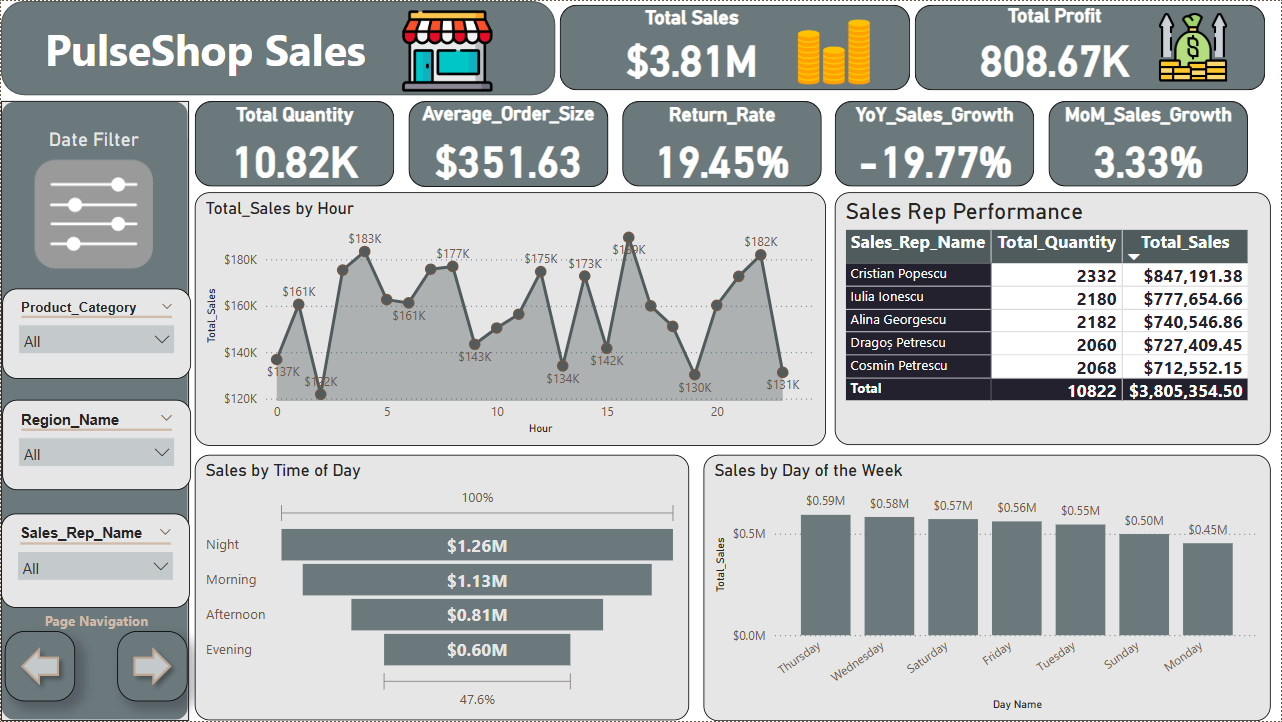

This screenshot's page, from the dashboard's own definition file:
{"tool":"powerbi","page":{"name":"Time & Rep Performance","canvas":[1280,720],"ordinal":1},"visuals":[{"type":"shape","box":[0,0,554.3,94.3],"z":0,"group":"g8"},{"type":"shape","box":[559.1,4.3,350,85.8],"z":0,"group":"g5"},{"type":"shape","box":[914.3,4.3,350,85.8],"z":0,"group":"g3"},{"type":"shape","box":[0,100,188,620],"z":0},{"type":"shape","box":[194.3,100,200,85.8],"z":0,"group":"g4"},{"type":"shape","box":[407.5,100,199.9,86],"z":0,"group":"g7"},{"type":"shape","box":[620.7,100,200,85.8],"z":0,"group":"g6"},{"type":"shape","box":[833.9,100,200,85.8],"z":0,"group":"g1"},{"type":"shape","box":[1047.1,100,200,85.8],"z":0,"group":"g2"},{"type":"card","title":"Total Profit","fields":{"Values":["Sum(Fact_Orders.Profit)"]},"box":[914.1,3.9,280,82.9],"z":1000,"group":"g3"},{"type":"card","title":"Total Sales","fields":{"Values":["Dax_meas.Total_Sales"]},"box":[559,5.3,264.3,80],"z":1000,"group":"g5"},{"type":"textbox","box":[38.6,14.3,381.4,88.6],"z":1000,"group":"g8"},{"type":"group","id":"g1","title":"Group 1","box":[833.9,100,200,90],"z":1000},{"type":"card","title":"Average_Order_Size","fields":{"Values":["Dax_meas.Average_Order_Size"]},"box":[407.6,101.2,199.9,88.8],"z":1000,"group":"g7"},{"type":"card","title":"Total Quantity","fields":{"Values":["Dax_meas.Total_Quantity"]},"box":[194.3,102.8,200,87.2],"z":1000,"group":"g4"},{"type":"card","title":"Return_Rate","fields":{"Values":["Dax_meas.Return_Rate"]},"box":[620.7,102.8,200,87.2],"z":1000,"group":"g6"},{"type":"card","title":"YoY_Sales_Growth","fields":{"Values":["Dax_meas.YoY_Sales_Growth"]},"box":[833.9,102.8,200,87.2],"z":1000,"group":"g1"},{"type":"card","title":"MoM_Sales_Growth","fields":{"Values":["Dax_meas.MoM_Sales_Growth"]},"box":[1047.1,102.8,200,87.2],"z":1000,"group":"g2"},{"type":"image","box":[338.6,0,215.7,100],"z":2000,"group":"g8"},{"type":"group","id":"g2","title":"Group 1","box":[1047.1,100,200,90],"z":2000},{"type":"group","id":"g3","title":"Group 1","box":[914.1,3.9,350.2,86.3],"z":3000},{"type":"group","id":"g4","title":"Group 1","box":[194.3,100,200,90],"z":4000},{"type":"group","id":"g5","title":"Group 1","box":[559,4.3,350.1,85.8],"z":5000},{"type":"group","id":"g6","title":"Group 1","box":[620.7,100,200,90],"z":6000},{"type":"group","id":"g7","title":"Group 1","box":[407.5,100,200,90],"z":7000},{"type":"lineChart","fields":{"Y":["Dax_meas.Total_Sales"],"Category":["Dim_Date_Time.Hour"]},"box":[193.8,191.2,631.2,253.8],"z":8000},{"type":"slicer","fields":{"Values":["Dim_Products.Product_Category"]},"box":[1.2,287.5,184.1,90.2],"z":9000},{"type":"slicer","fields":{"Values":["Dim_Regions.Region_Name"]},"box":[1.2,398.2,184.1,90.2],"z":10000},{"type":"slicer","fields":{"Values":["Dim_Sales_Reps.Sales_Rep_Name"]},"box":[0,512.5,185.3,95],"z":11000},{"type":"shape","box":[115.7,630,70,70],"z":12000},{"type":"shape","box":[4.3,630,70,70],"z":13000},{"type":"image","box":[762.9,14.3,141.4,74.3],"z":14000},{"type":"image","box":[1120,5.7,144.3,80],"z":15000},{"type":"image","title":"Date Filter","box":[0,127.1,185.7,150],"z":16000},{"type":"group","id":"g8","title":"Group 3","box":[0,0,554.3,102.9],"z":17000},{"type":"clusteredColumnChart","title":"Sales by Day of the Week","fields":{"Category":["Dim_Date.Day Name"],"Y":["Dax_meas.Total_Sales"]},"box":[702.5,453.8,567.5,266.2],"z":19000},{"type":"funnel","title":"Sales by Time of Day","fields":{"Category":["Dim_Date_Time.Time of Day"],"Y":["Dax_meas.Total_Sales"]},"box":[194.3,454.3,494.3,265.7],"z":20000},{"type":"pivotTable","title":"Sales Rep Performance","fields":{"Rows":["Dim_Sales_Reps.Sales_Rep_Name"],"Values":["Dax_meas.Total_Quantity","Dax_meas.Total_Sales"]},"box":[834.3,191.4,435.7,252.9],"z":21000},{"type":"textbox","box":[38.8,606.2,128.8,27.5],"z":22000}]}

Visuals, with their boxes in screenshot pixels (x1, y1, x2, y2), scaled from the page's 1280x720 canvas onto the 1282x722 screenshot:
shape: crop(0, 0, 555, 95)
shape: crop(560, 4, 911, 90)
shape: crop(916, 4, 1266, 90)
shape: crop(0, 100, 188, 721)
shape: crop(195, 100, 395, 186)
shape: crop(408, 100, 608, 187)
shape: crop(622, 100, 822, 186)
shape: crop(835, 100, 1036, 186)
shape: crop(1049, 100, 1249, 186)
"Total Profit" card: crop(916, 4, 1196, 87)
"Total Sales" card: crop(560, 5, 825, 86)
textbox: crop(39, 14, 421, 103)
"Group 1" group: crop(835, 100, 1036, 191)
"Average_Order_Size" card: crop(408, 101, 608, 191)
"Total Quantity" card: crop(195, 103, 395, 191)
"Return_Rate" card: crop(622, 103, 822, 191)
"YoY_Sales_Growth" card: crop(835, 103, 1036, 191)
"MoM_Sales_Growth" card: crop(1049, 103, 1249, 191)
image: crop(339, 0, 555, 100)
"Group 1" group: crop(1049, 100, 1249, 191)
"Group 1" group: crop(916, 4, 1266, 90)
"Group 1" group: crop(195, 100, 395, 191)
"Group 1" group: crop(560, 4, 911, 90)
"Group 1" group: crop(622, 100, 822, 191)
"Group 1" group: crop(408, 100, 608, 191)
lineChart - Dax_meas.Total_Sales x Dim_Date_Time.Hour: crop(194, 192, 826, 446)
slicer - Dim_Products.Product_Category: crop(1, 288, 186, 379)
slicer - Dim_Regions.Region_Name: crop(1, 399, 186, 490)
slicer - Dim_Sales_Reps.Sales_Rep_Name: crop(0, 514, 186, 609)
shape: crop(116, 632, 186, 702)
shape: crop(4, 632, 74, 702)
image: crop(764, 14, 906, 89)
image: crop(1122, 6, 1266, 86)
"Date Filter" image: crop(0, 127, 186, 278)
"Group 3" group: crop(0, 0, 555, 103)
"Sales by Day of the Week" clusteredColumnChart: crop(704, 455, 1272, 721)
"Sales by Time of Day" funnel: crop(195, 456, 690, 721)
"Sales Rep Performance" pivotTable: crop(836, 192, 1272, 446)
textbox: crop(39, 608, 168, 635)
